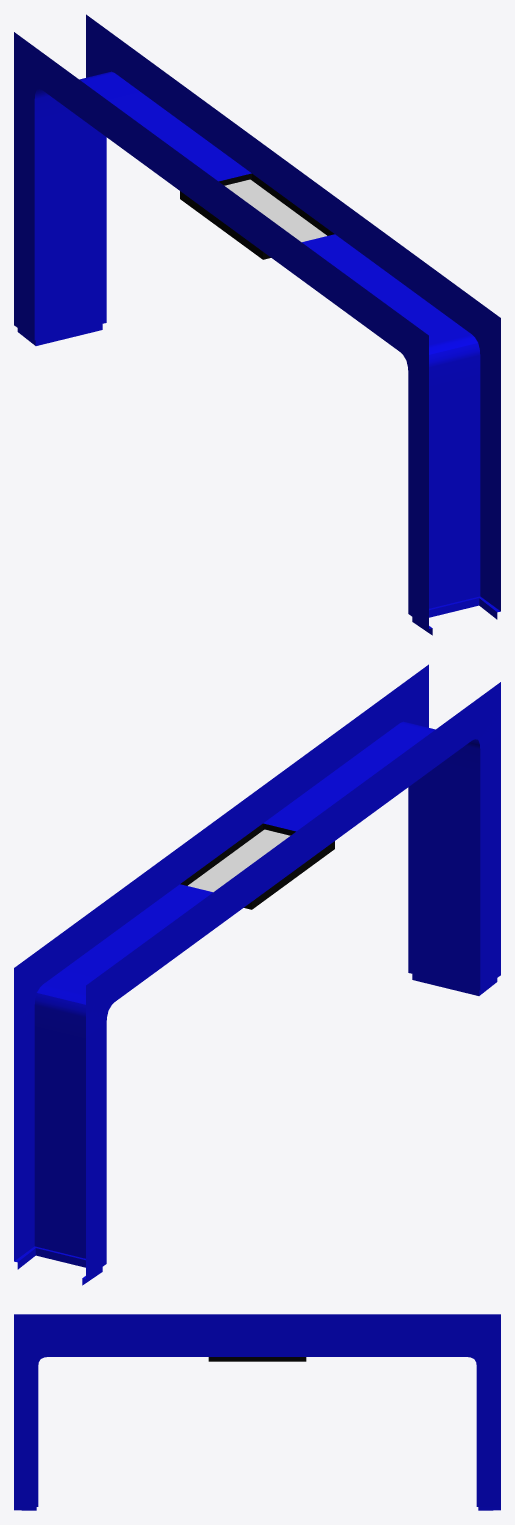
The model's file is beam.fbx.
3 renders of one model, top to bottom at view 1: azimuth 30°, elevation 25°; view 2: azimuth 150°, elevation 25°; view 3: azimuth 270°, elevation 25°, orthographic. The views are drawn at different scales.
Visible parts, largest first — view 1: pCube154; view 2: pCube154; view 3: pCube154.
Part boxes in pixels (bbox=[...]): pCube154: bbox=[14, 14, 500, 635]; pCube154: bbox=[14, 664, 500, 1285]; pCube154: bbox=[14, 1314, 500, 1510].
Size of the model in its own units: 200 by 800 by 2000.
